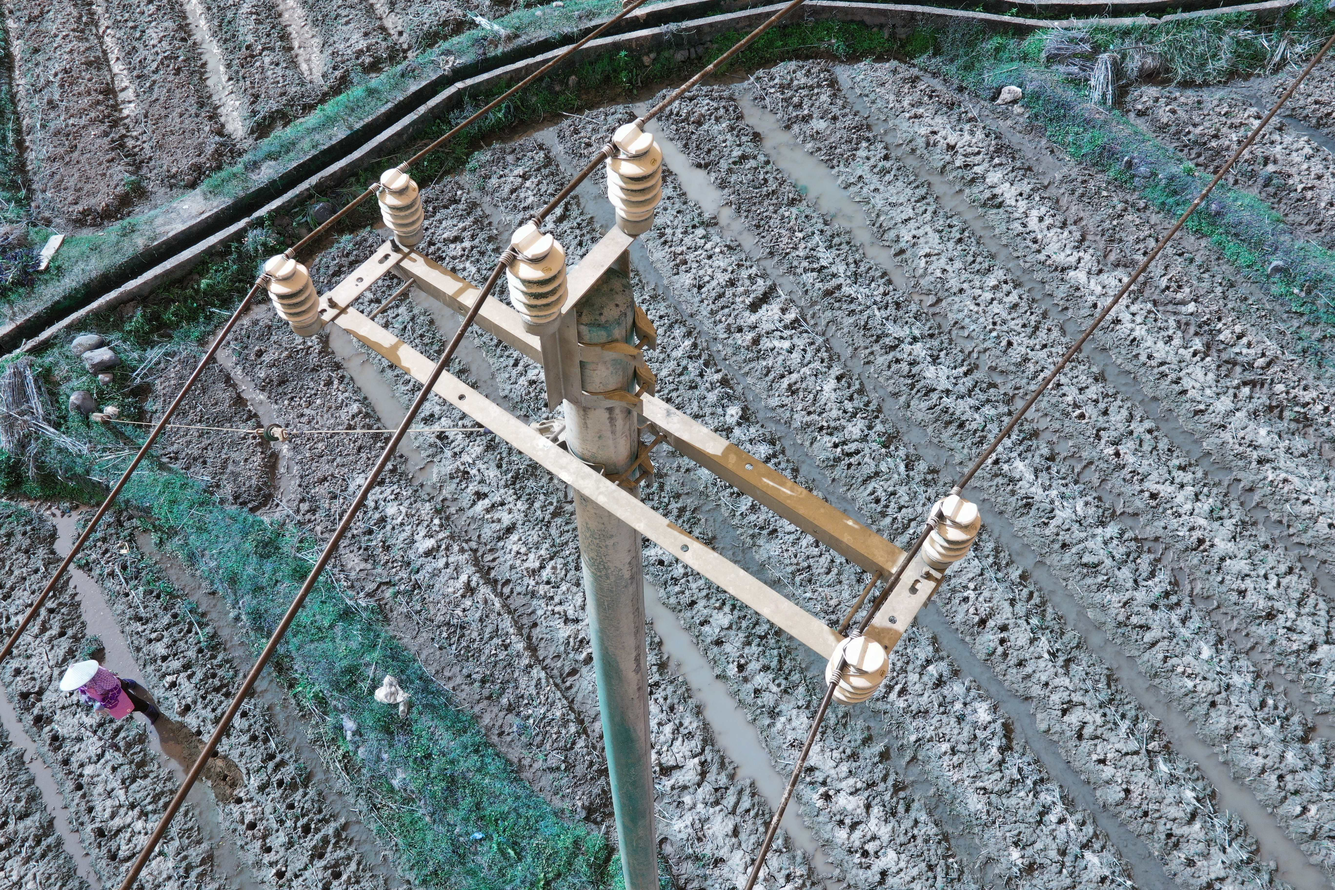severe_soiling_no_discharge_whole: (503, 222, 572, 336), (603, 121, 665, 237), (261, 253, 327, 340), (917, 492, 982, 571), (373, 165, 430, 248)
